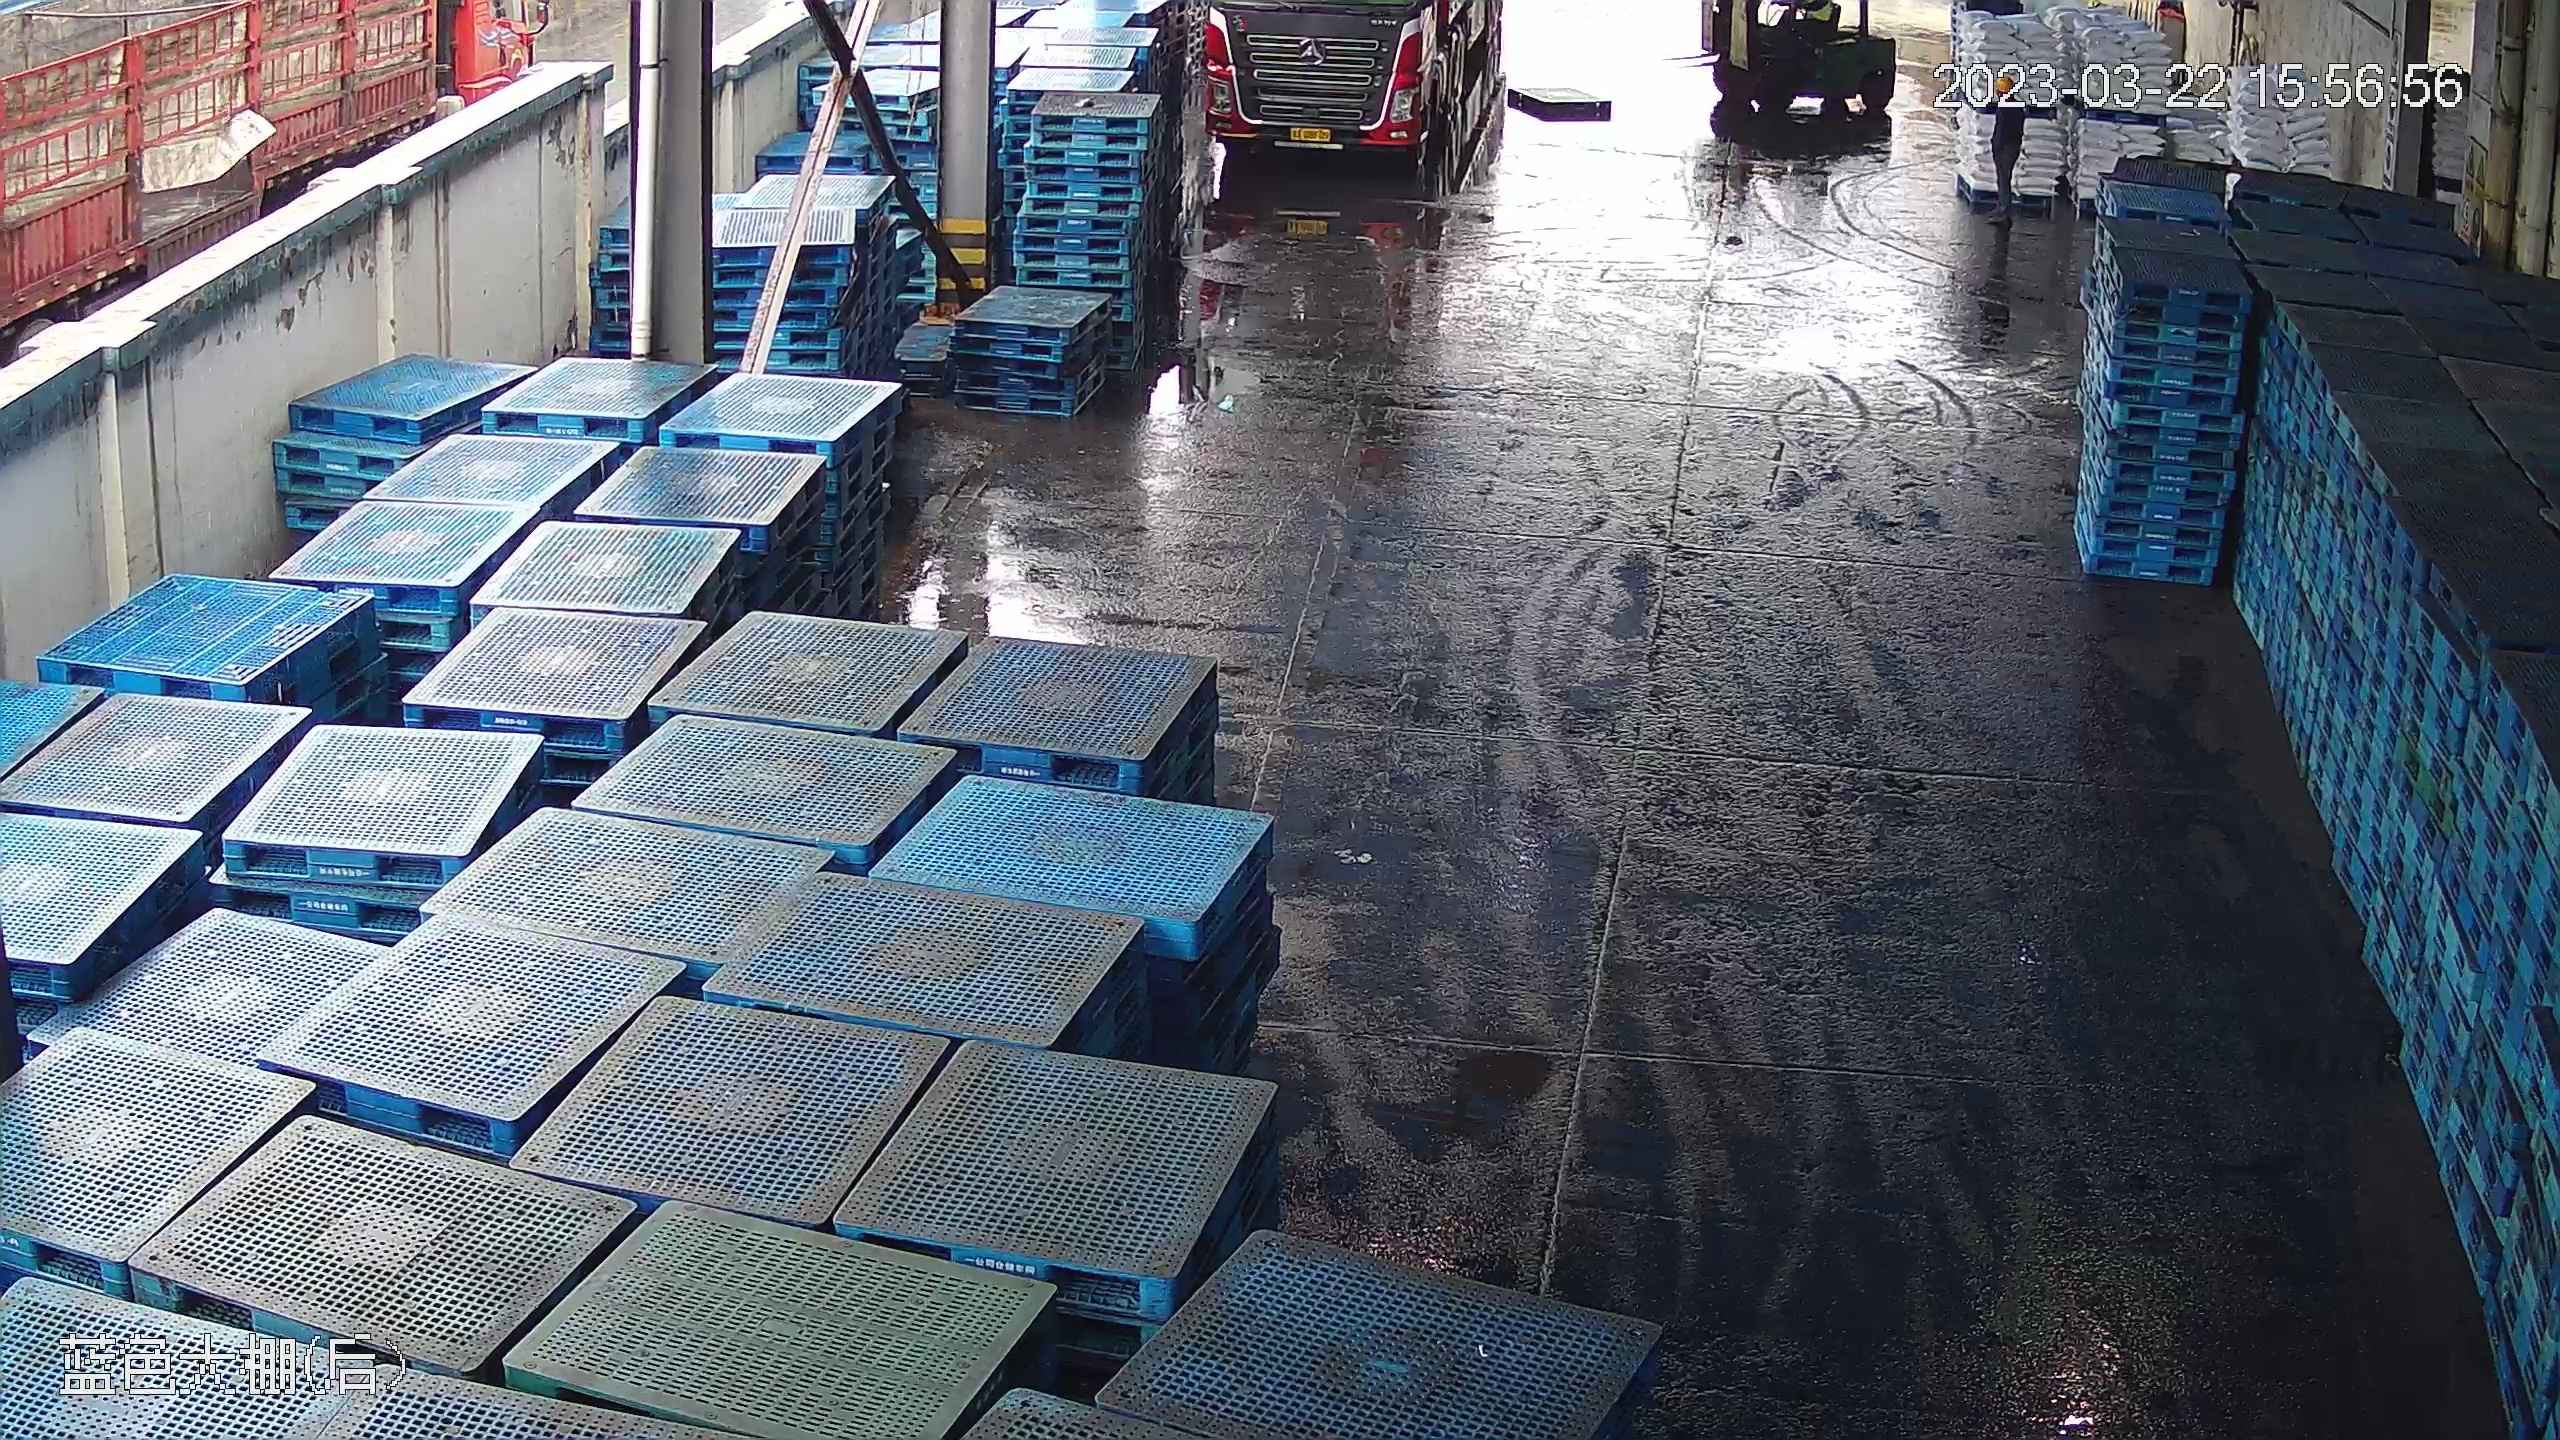head: (1986, 67, 2027, 113)
helmet: (1993, 67, 2019, 88)
people: (1981, 65, 2030, 198)
truck: (1197, 6, 1500, 175)
